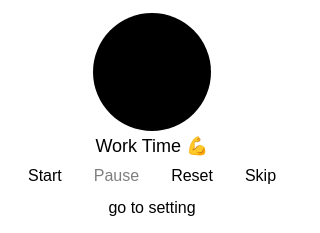
Scenario: 뽀모도로 타이머 메인 화면 › 스킵 버튼을 누르면 모드가 바뀌어야한다.
Click the button with test id "start-button". click: [45, 176]
box: [16,160,74,192]
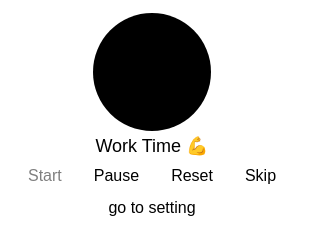
Click the button with test id "skip-button". click: [261, 176]
box: [233,160,288,192]
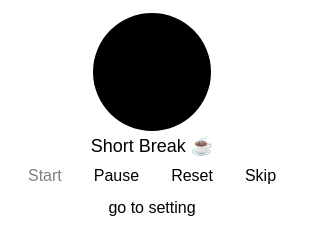
Expected: the heading with test id "mode-display" no longer shows "Work"
